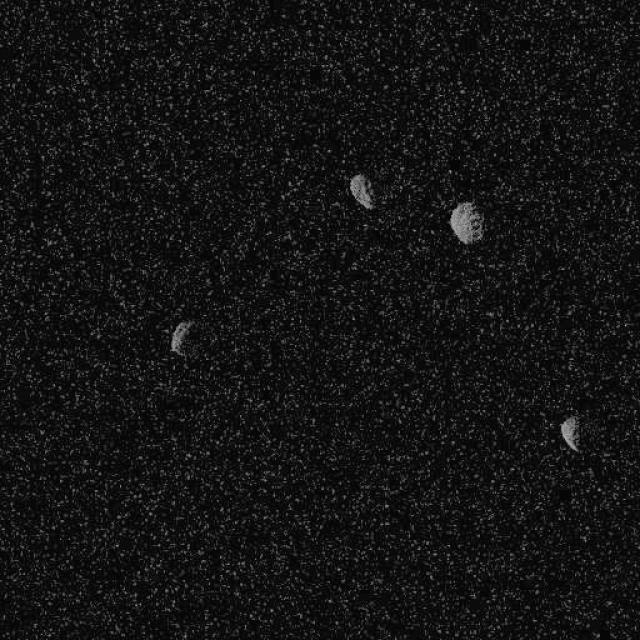D2: (447, 200, 485, 245), (348, 171, 377, 210), (168, 319, 194, 356), (559, 413, 581, 452)
